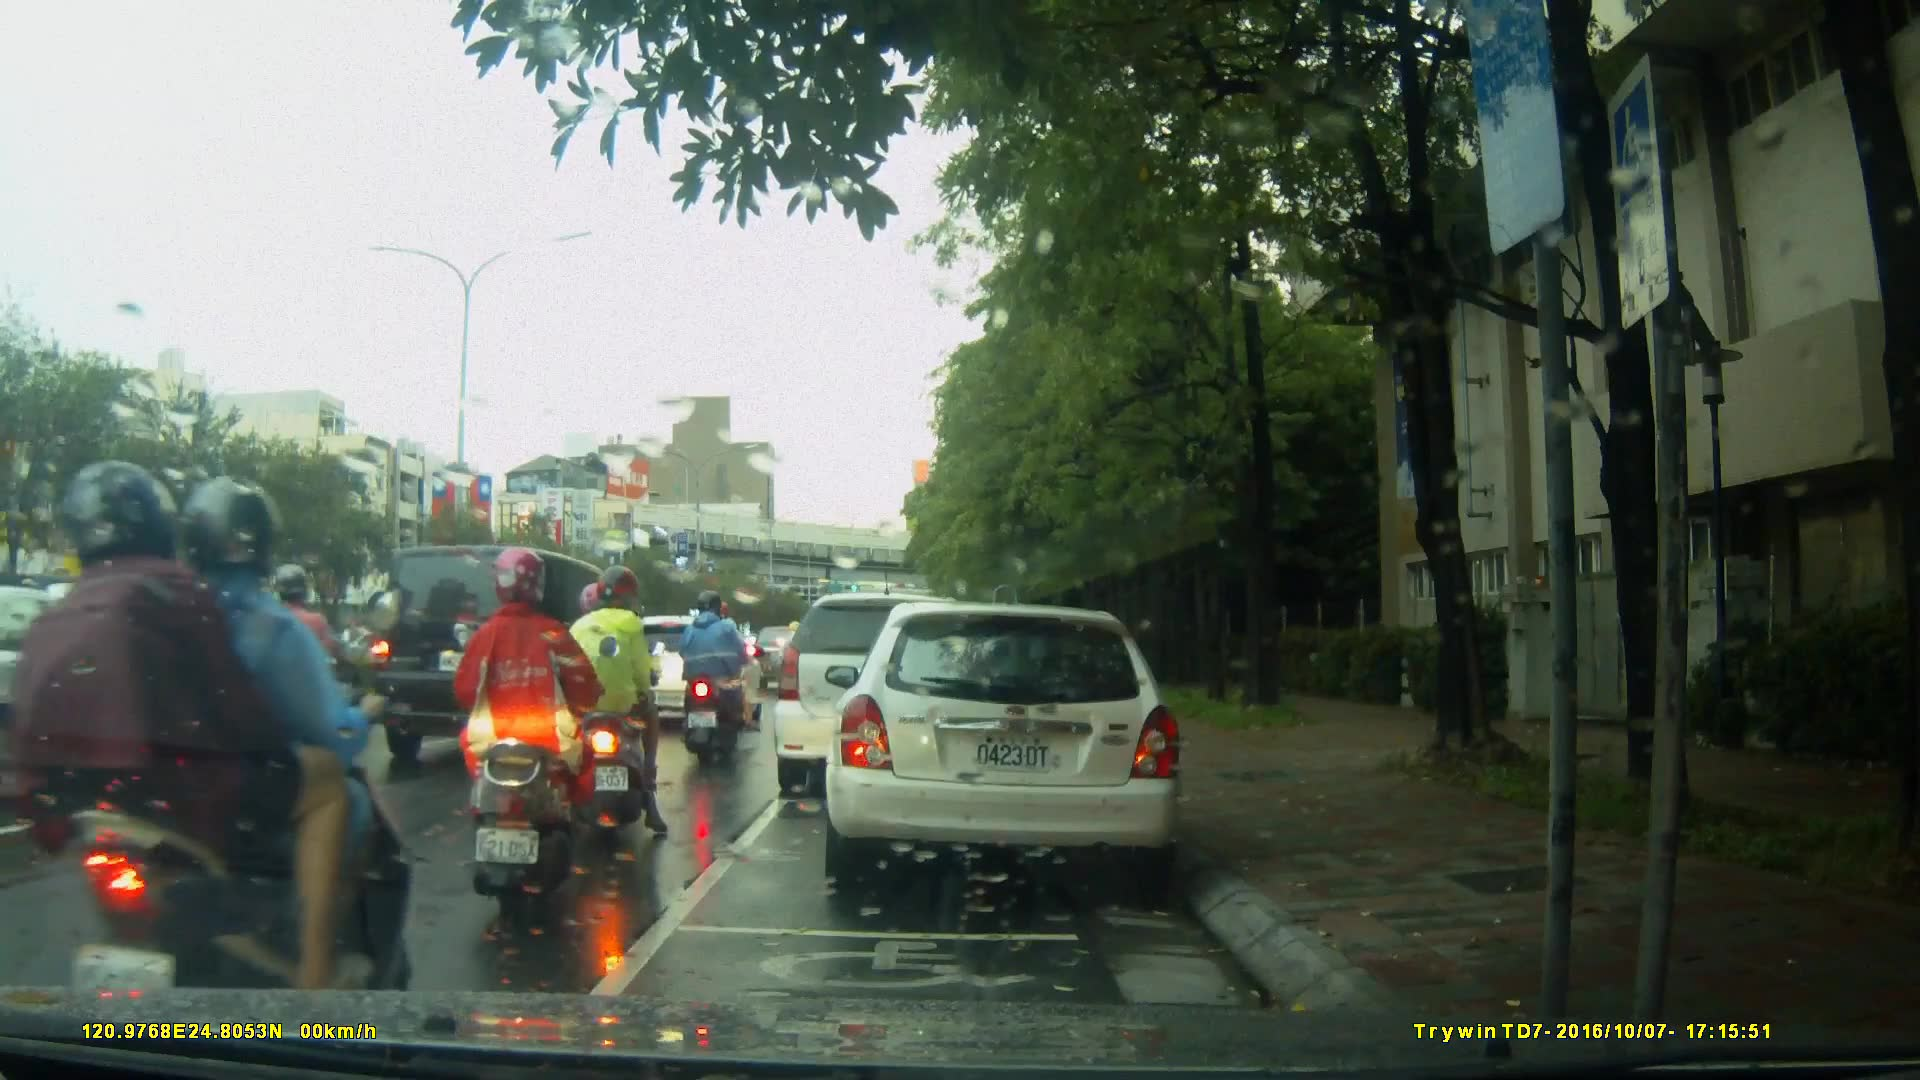rider: (16, 466, 389, 1037), (454, 545, 611, 927), (199, 562, 368, 818), (565, 567, 683, 843), (585, 595, 665, 814), (675, 591, 753, 761)
vehicle: (822, 604, 1188, 883), (370, 543, 650, 769), (774, 595, 995, 802)
